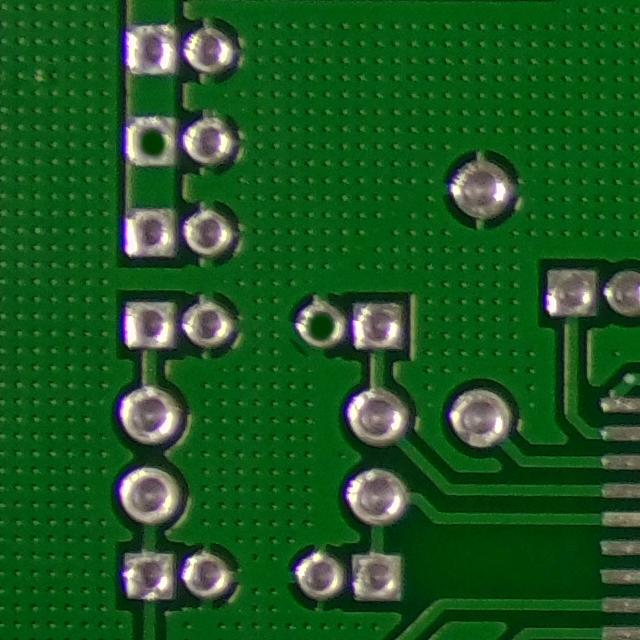missing_hole: (296, 289, 345, 351)
